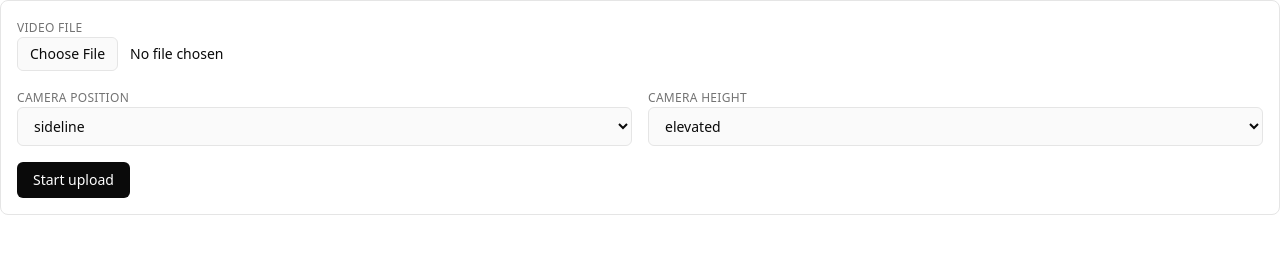
Test: UploadFlow › prompts the user to pick a file if the submit button is pressed with nothing selected
What coordinates should you click on to do the following:
click the button "Start upload"
I would click on:
 (73, 180)
Its box is [17,162,130,198].
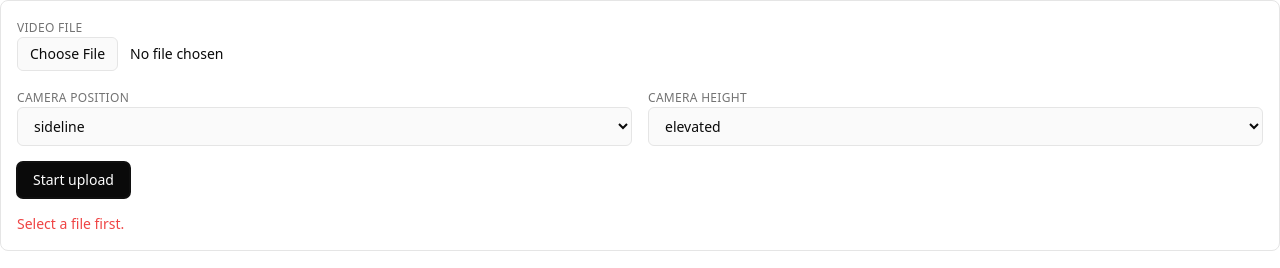
expect the message shows "Select a file": met, box [17,214,124,233]
